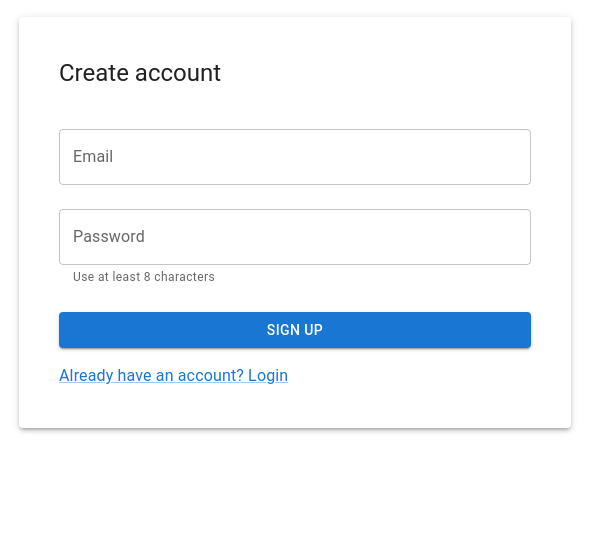
Test: signs up a user through the real auth API and shows success
Type "new@example.com" into the field labelled "Email". click: (295, 157)
box: [59,129,531,185]
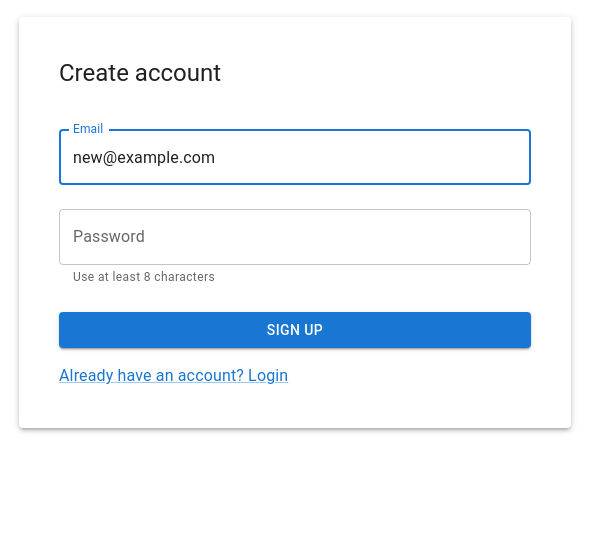
Type "password123" into the password field labelled "Password". click: (295, 237)
box: [59,209,531,265]
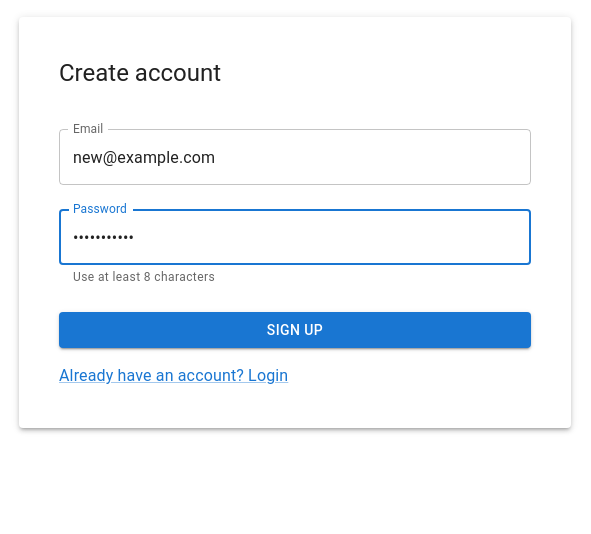
Click the button "Sign up". click: (295, 330)
box: [59,312,531,348]
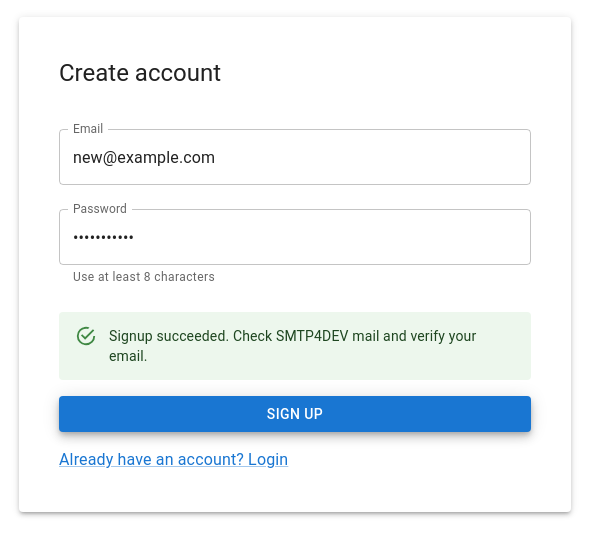
Check: the text "Signup succeeded. Check SMTP4DEV mail and verify your email." is shown, box [109,318,515,374]
